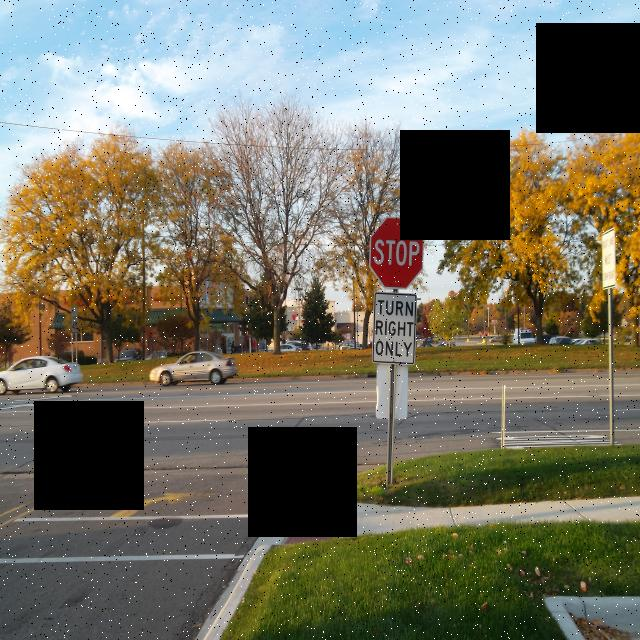regulatory: (370, 288, 420, 369), (600, 228, 618, 292)
stop: (362, 212, 428, 290)
